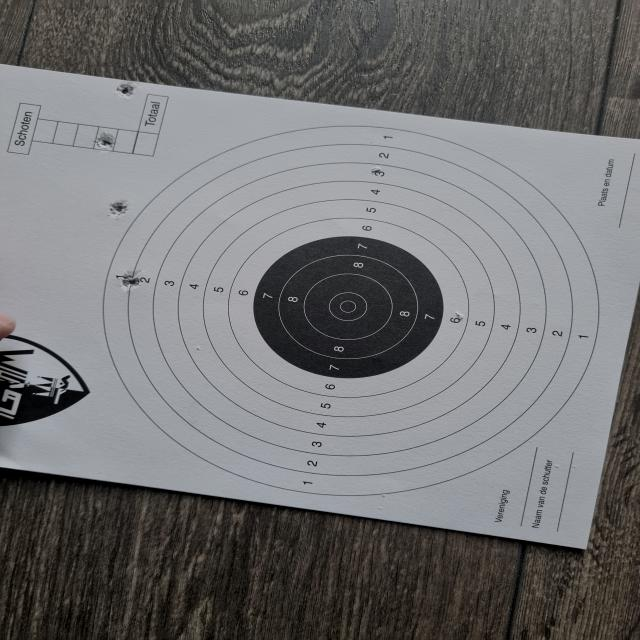0: (105, 200, 130, 220), (93, 133, 116, 152), (113, 83, 138, 98)
2: (118, 271, 144, 291)
Target: (103, 126, 598, 497)
black_contour: (253, 236, 443, 378)
